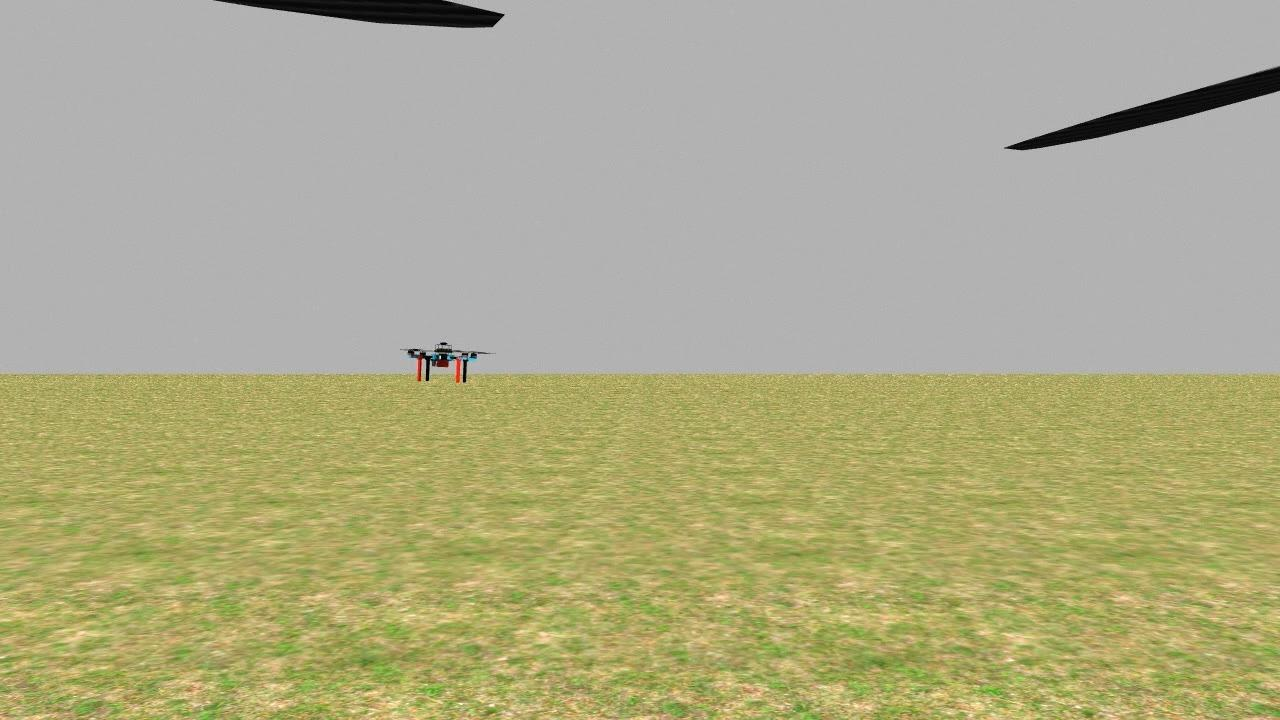UAV: (383, 320, 499, 396)
